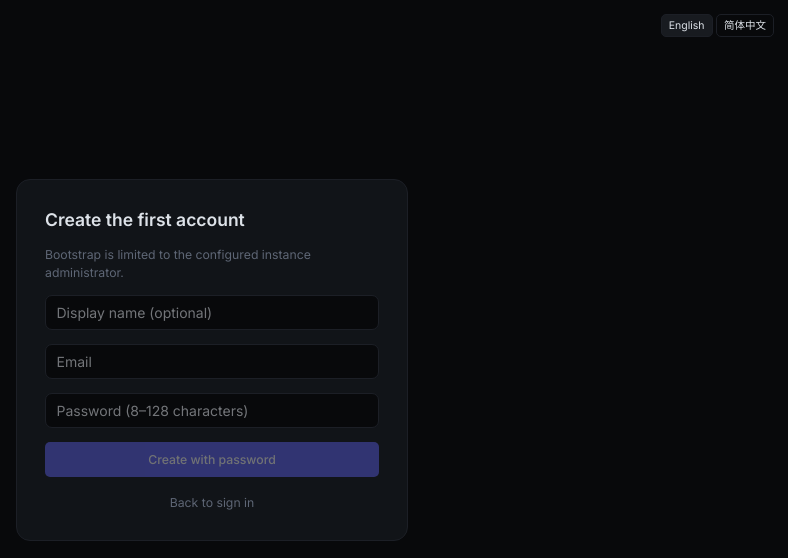
Scenario: registration experience › disables password registration until the server-advertised length is satisfied
Expected: the button "Create with password" is disabled, [45,442,379,477]
Type "owner@example.test" into the field with placeholder "Email".
click(212, 362); type("owner@example.test")  # box [45,344,379,379]
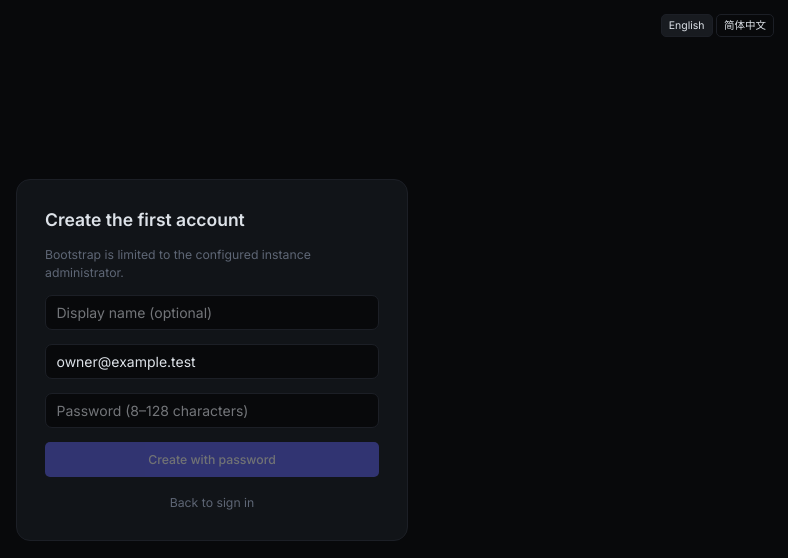
Type "1234567" into the password field with placeholder "Password (8–128 characters)".
click(212, 411); type("1234567")  # box [45,393,379,428]
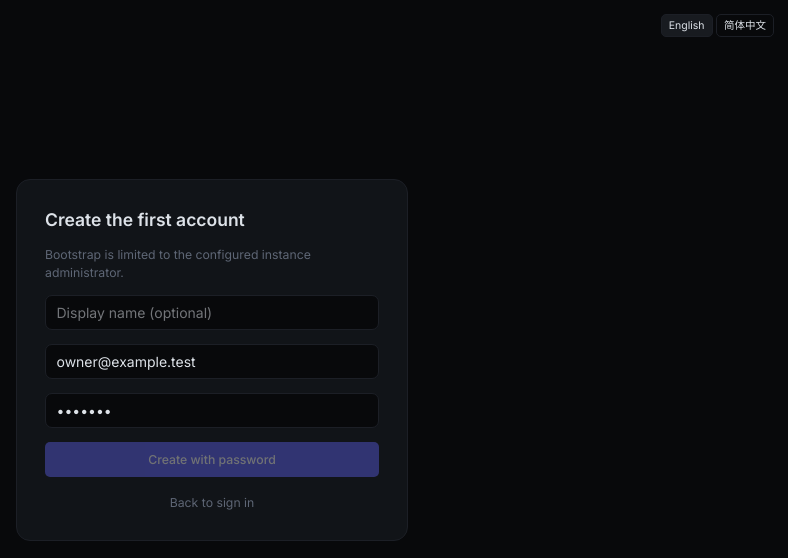
Expected: the button "Create with password" is disabled, [45,442,379,477]
Type "12345678" into the password field with placeholder "Password (8–128 characters)".
click(212, 411); type("12345678")  # box [45,393,379,428]
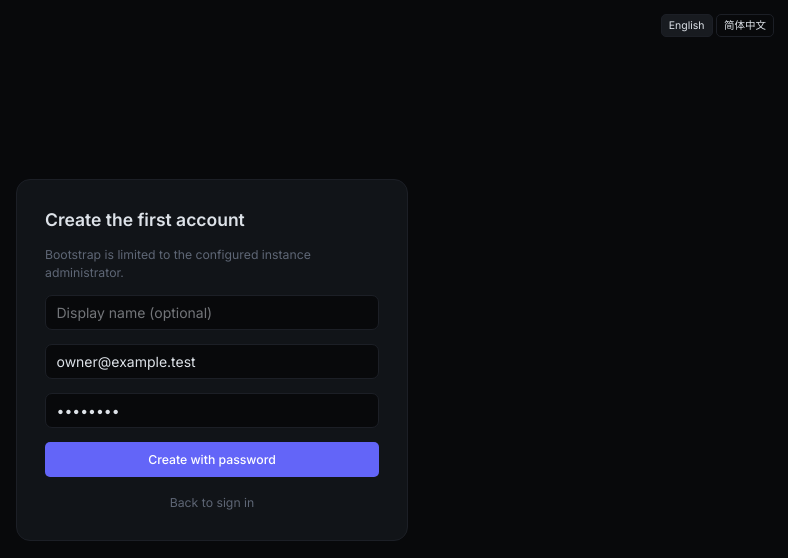
Now the button "Create with password" is enabled, box [45,442,379,477]
